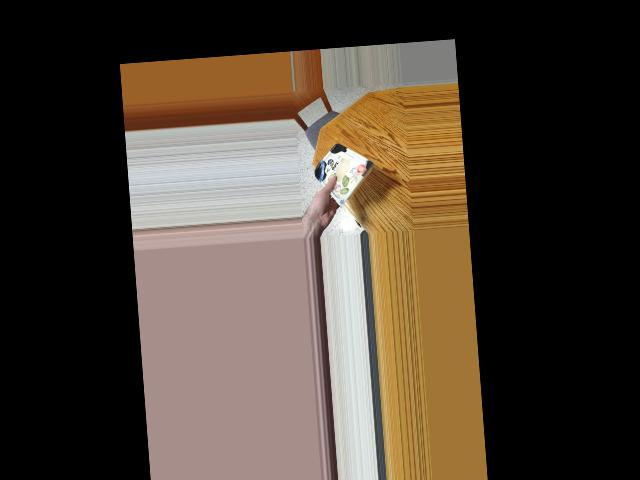cheese: (320, 142, 367, 202)
